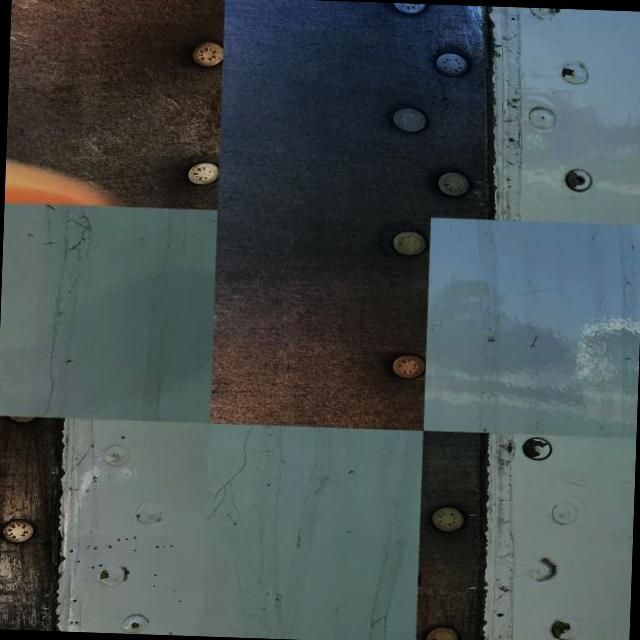crack: (203, 429, 264, 524), (45, 212, 106, 258)
